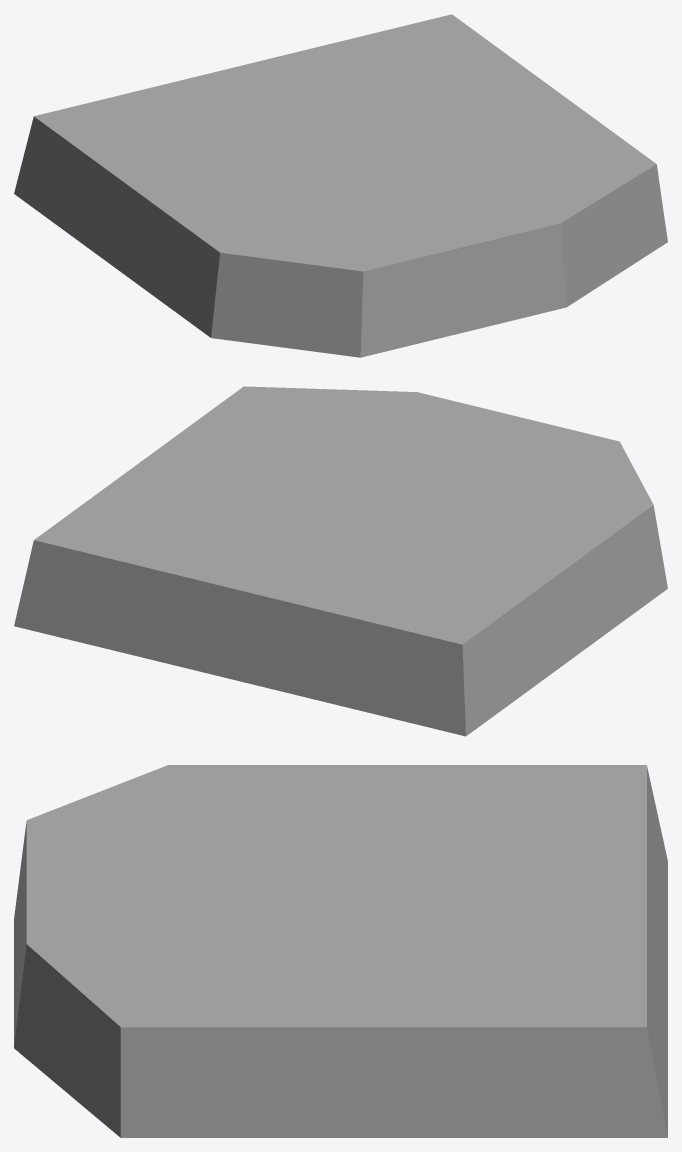
Rendered from Rock_Tile_m_04.fbx.
3 renders of one model, top to bottom at view 1: azimuth 30°, elevation 25°; view 2: azimuth 150°, elevation 25°; view 3: azimuth 270°, elevation 25°, orthographic. The views are drawn at different scales.
Parts seen in each view (by area): view 1: Rock_Tile_m_04; view 2: Rock_Tile_m_04; view 3: Rock_Tile_m_04.
Boxes of the visible parts, x1,y1,x2,y2 form: Rock_Tile_m_04: (14, 14, 667, 357); Rock_Tile_m_04: (14, 386, 667, 736); Rock_Tile_m_04: (14, 765, 667, 1137).
Size of the model in its own units: 40 by 7 by 40.
